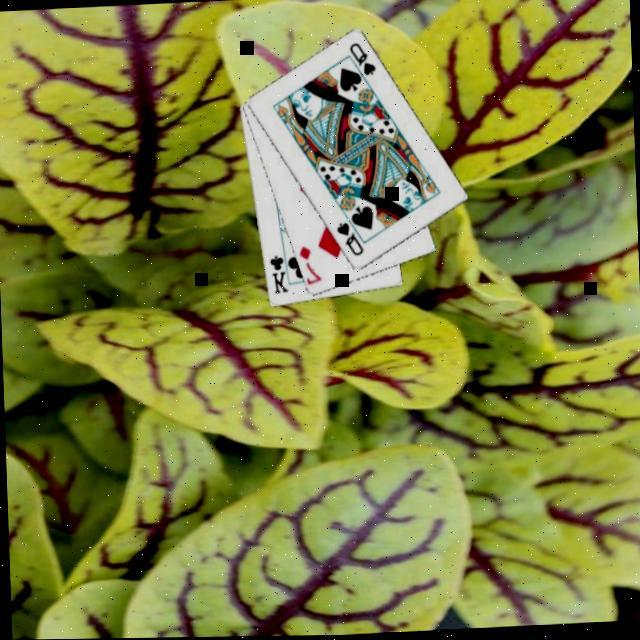7D: (296, 245, 326, 290)
KC: (267, 250, 295, 299)
QS: (334, 222, 367, 263), (346, 42, 379, 82)
